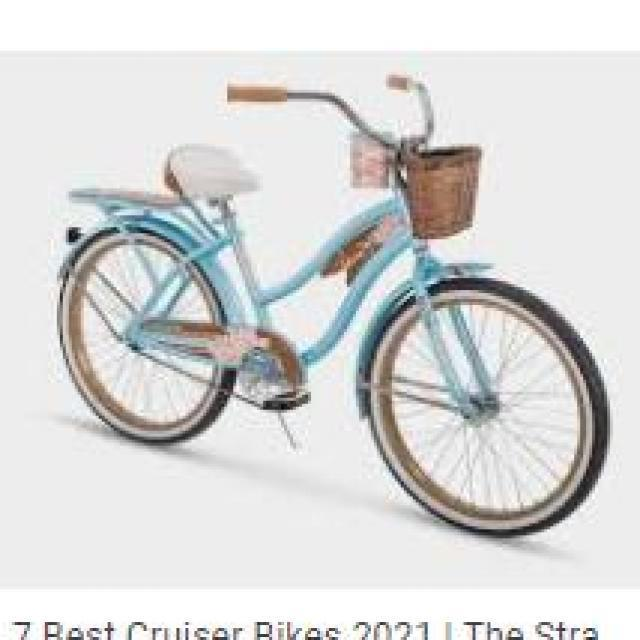bicycle: (31, 76, 593, 549)
